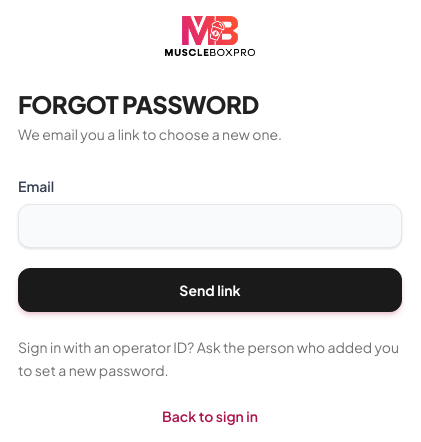
Test: Forgot password › says the same thing whether or not the address has an account
Type "r@x.in" into the field with test id "input-email" at (210, 226), box [18, 204, 402, 248]
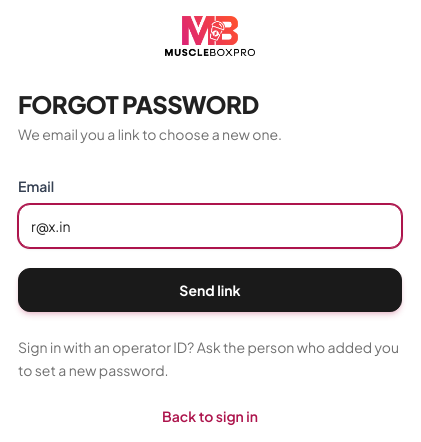
Click the button with test id "button-send-reset" at (210, 290), box [18, 268, 402, 312]
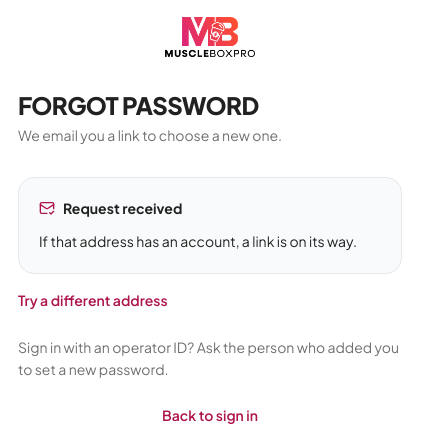
Expected: the text with test id "operator-reset-note" shows "Ask the person who added you", [18, 338, 399, 378]
Result: the message with test id "reset-requested" shows "If that address has an account" at [39, 232, 357, 250]
